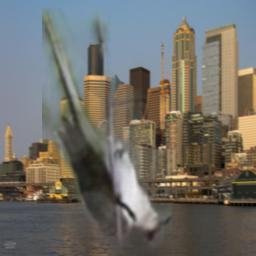Cuckoo: (42, 8, 172, 254)
